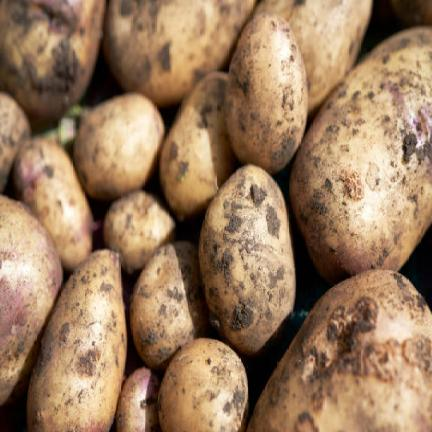potato: (289, 28, 431, 281), (248, 270, 431, 431), (199, 165, 294, 355), (27, 250, 126, 431), (104, 0, 255, 105), (226, 13, 307, 173), (0, 195, 62, 404), (257, 0, 372, 112), (0, 0, 104, 119), (160, 72, 235, 219), (13, 137, 92, 270), (129, 241, 208, 368), (73, 93, 164, 199), (159, 339, 247, 431), (104, 191, 174, 272), (0, 92, 30, 192), (116, 367, 160, 431), (390, 0, 431, 25)
